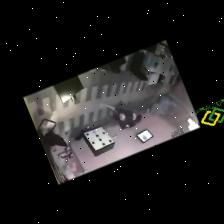person: (99, 100, 141, 128)
